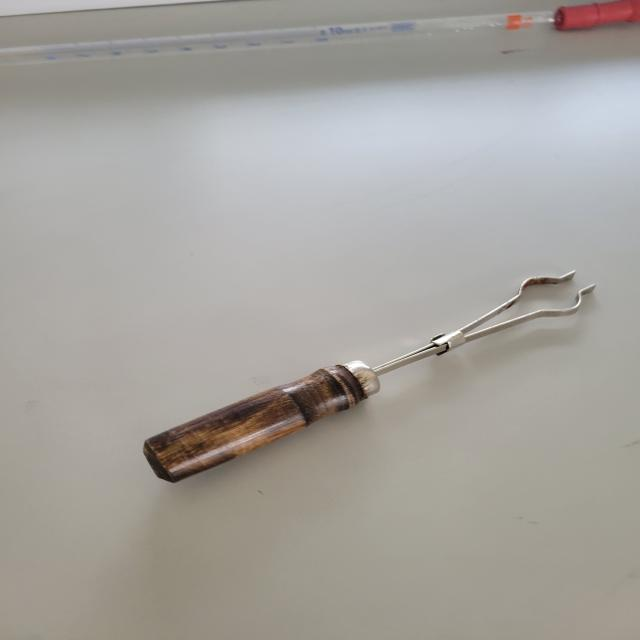TestTube_Holder: (132, 235, 604, 536)
